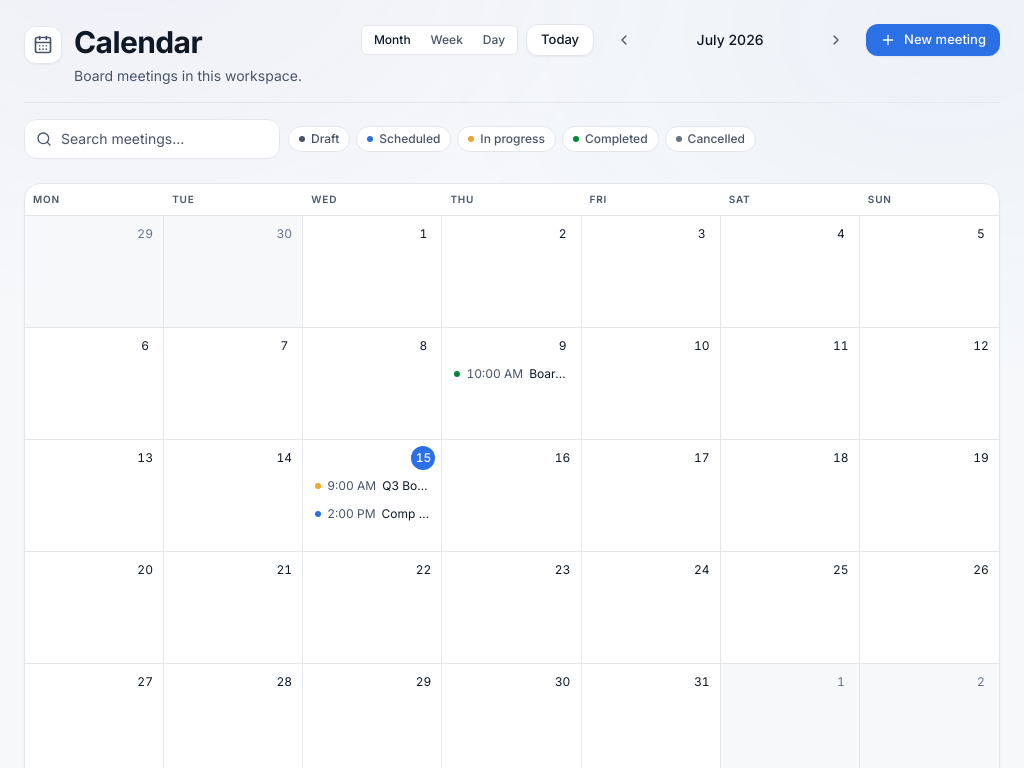
period navigation is view-aware › returns to today from another month
Expected: the button "9:00 AM Q3 Board Meeting" is shown, x1=309 y1=474 x2=435 y2=498
Step 1. Click the button named "Next" → x=836, y=40, box x1=814 y1=24 x2=858 y2=56
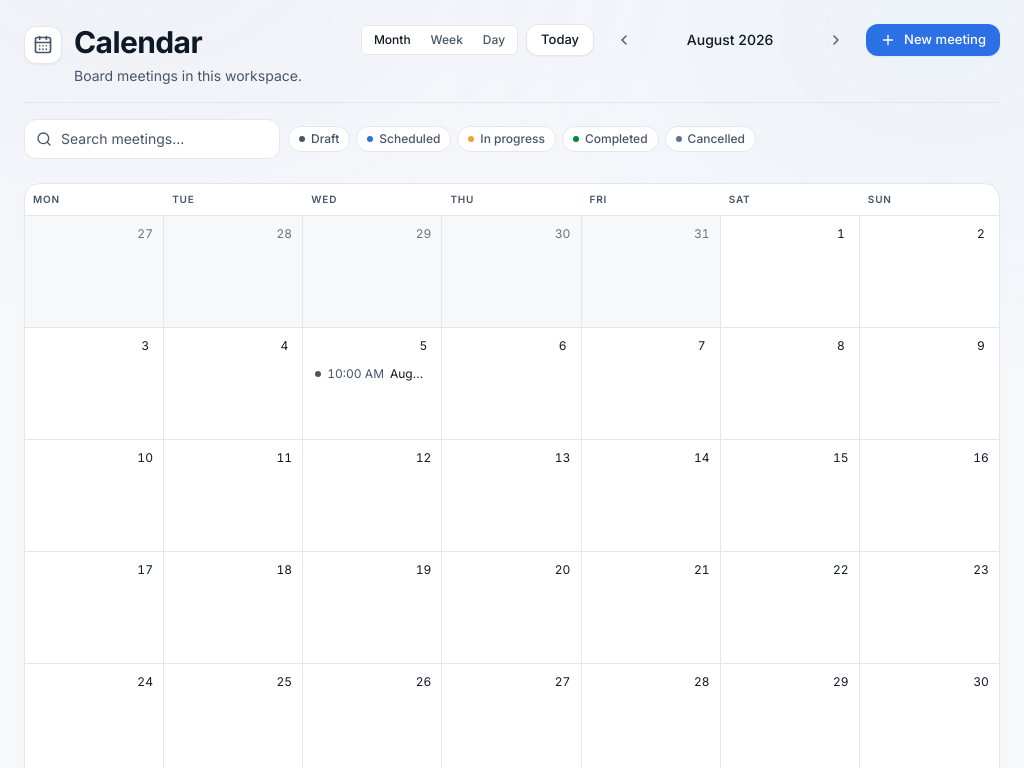
Result: the text "August 2026" is shown at x1=687 y1=31 x2=773 y2=48
Step 2. Click the button "Today" → x=560, y=40, box x1=526 y1=24 x2=594 y2=56
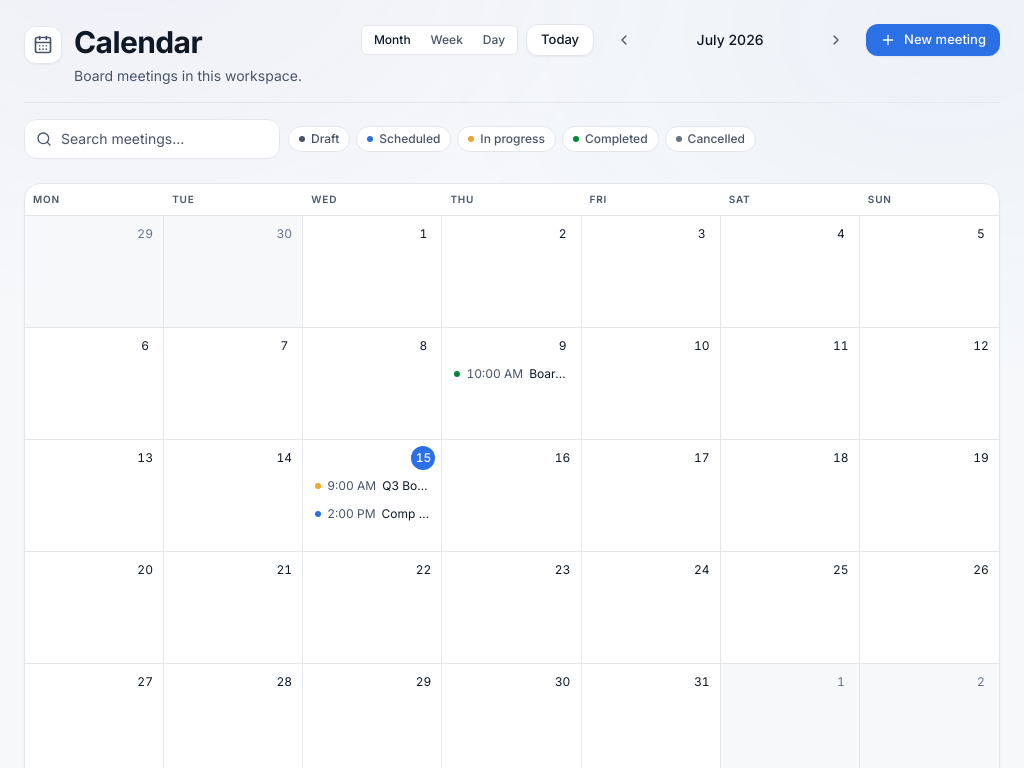
Result: the text "July 2026" is shown at x1=697 y1=31 x2=764 y2=48
